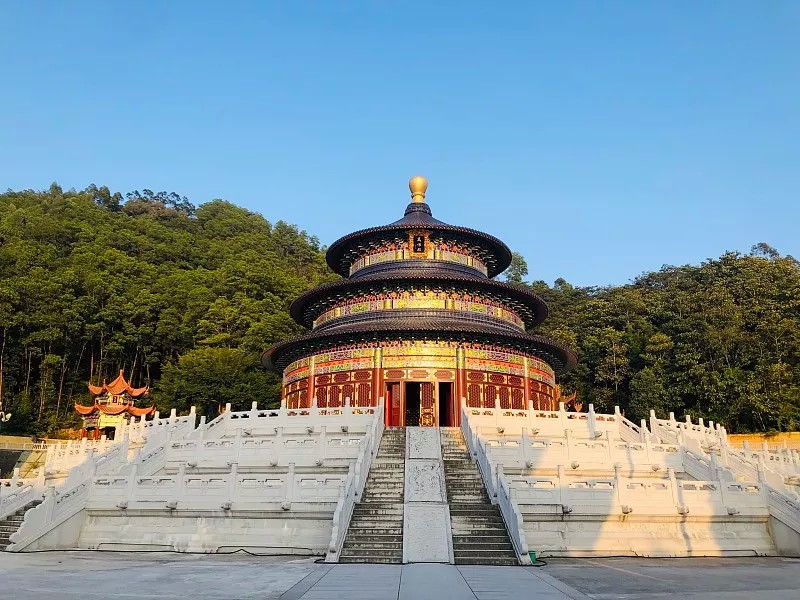Heaven: (258, 175, 581, 427)
